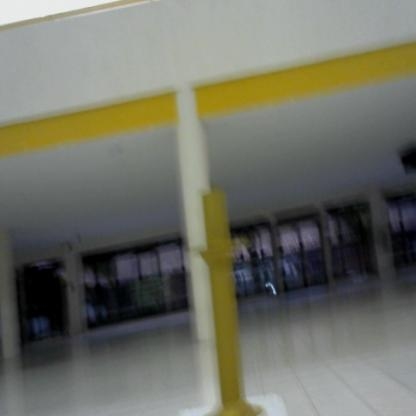pole: (183, 184, 273, 416)
